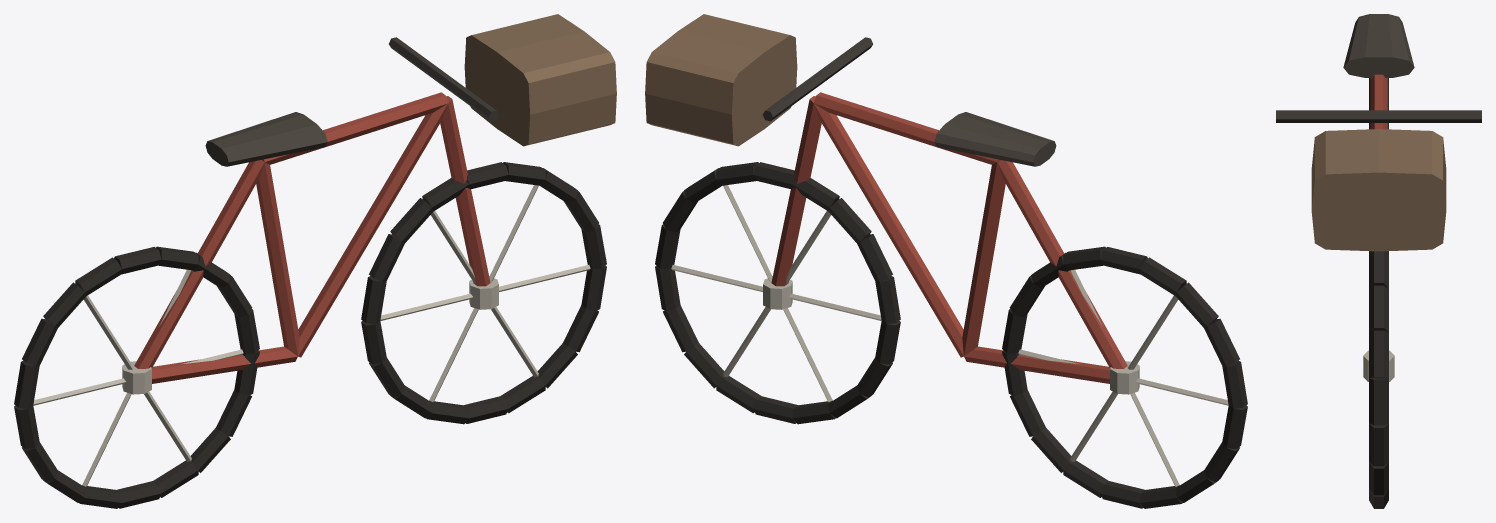
The model's file is bisiklet-kiremit.glb.
The picture shows the model from 3 angles, left to right: view 1: azimuth 30°, elevation 25°; view 2: azimuth 150°, elevation 25°; view 3: azimuth 270°, elevation 25°; orthographic projection. The views are drawn at different scales.
Parts seen in each view (by area): view 1: lastik, a_kiremit, ahsap, jant, ic, demir; view 2: lastik, a_kiremit, ahsap, jant, ic, demir; view 3: ahsap, lastik, ic, demir, a_kiremit, jant.
Boxes of the visible parts, x1,y1,x2,y2 form: lastik: (14, 162, 606, 508); a_kiremit: (134, 92, 490, 383); ahsap: (464, 14, 616, 146); jant: (33, 185, 590, 486); ic: (205, 112, 327, 166); demir: (389, 37, 499, 121); lastik: (655, 162, 1247, 508); a_kiremit: (771, 92, 1127, 383); ahsap: (645, 14, 797, 146); jant: (671, 185, 1228, 486); ic: (934, 112, 1056, 166); demir: (762, 37, 872, 121); ahsap: (1311, 129, 1446, 251); lastik: (1369, 78, 1388, 508); ic: (1343, 14, 1414, 77); demir: (1276, 110, 1481, 122); a_kiremit: (1370, 74, 1387, 129); jant: (1363, 350, 1394, 381).
Bounding box in the file's own units: 1.76 × 1.04 × 0.52.
